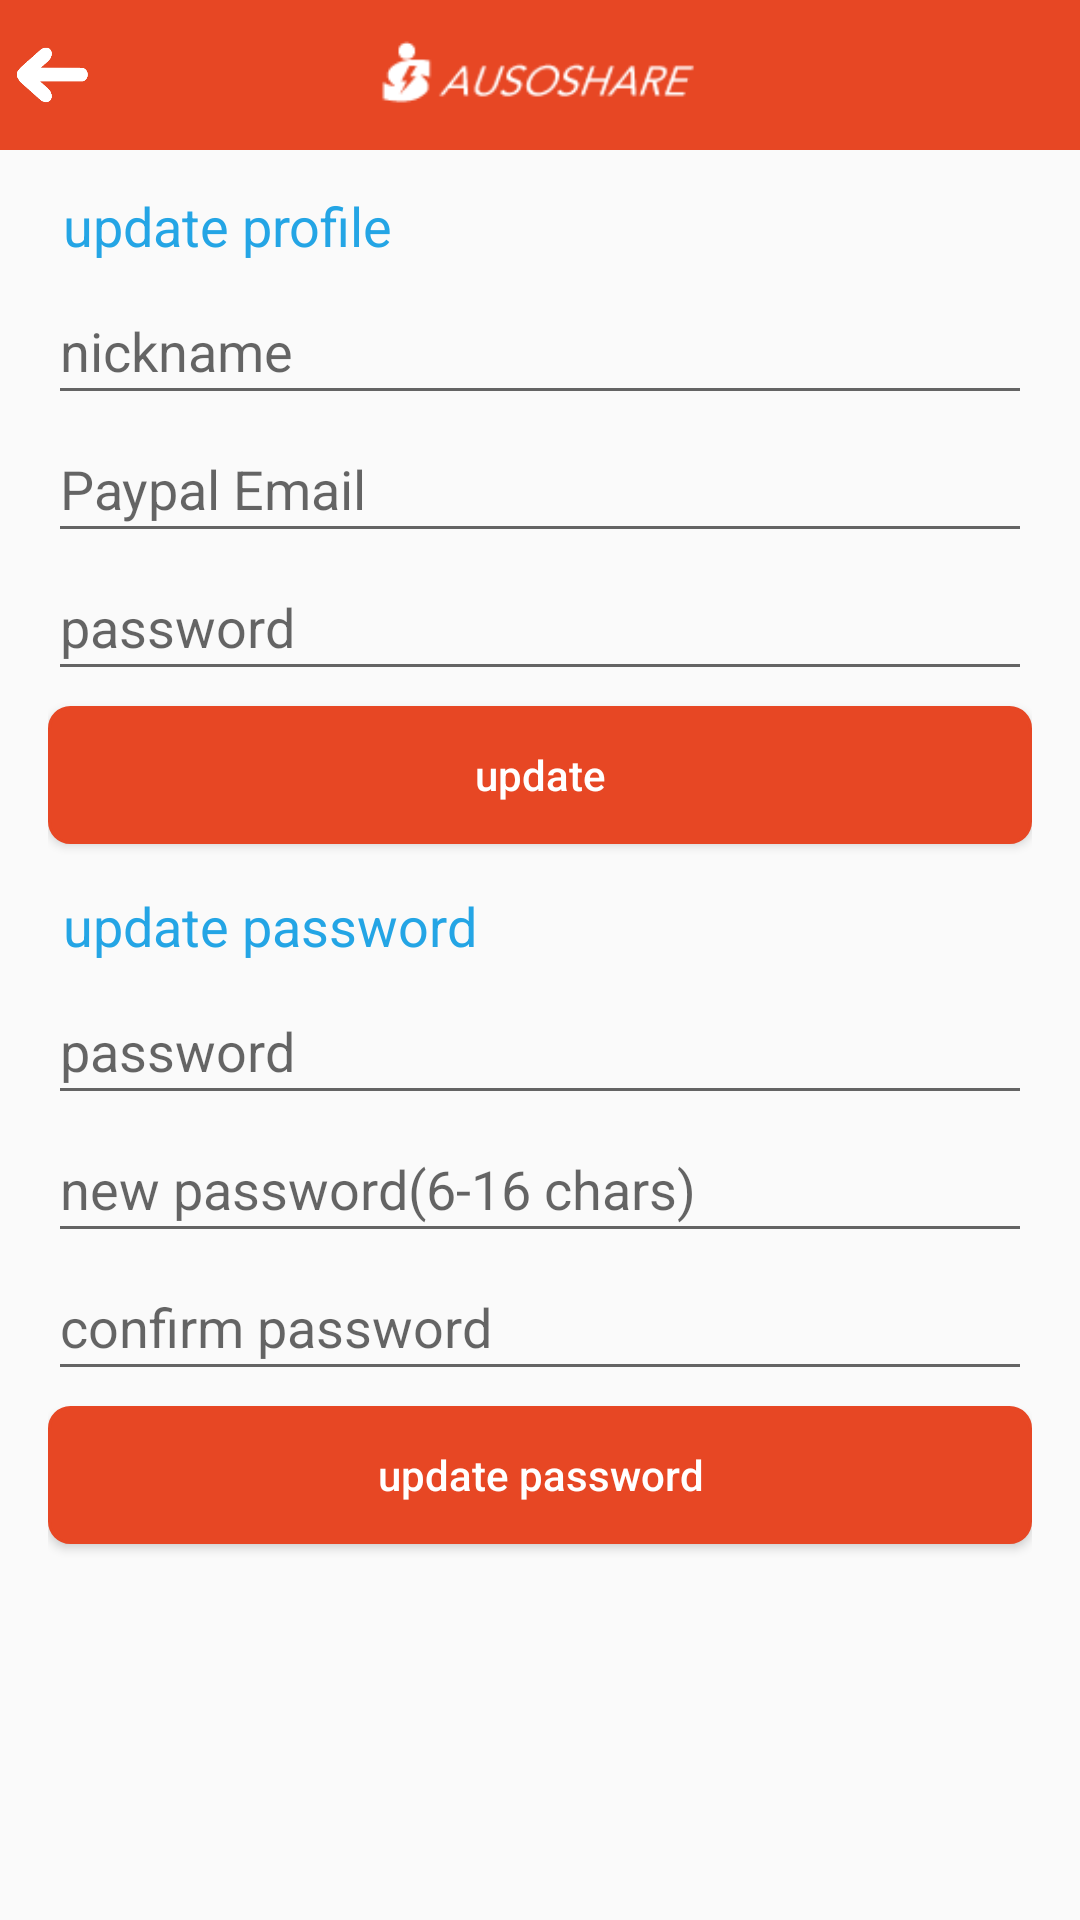

Where icons sit on this 1080 × 1920 app screen, as detection(x1, y1, x2, y2):
left arrow: detection(17, 48, 88, 102)
